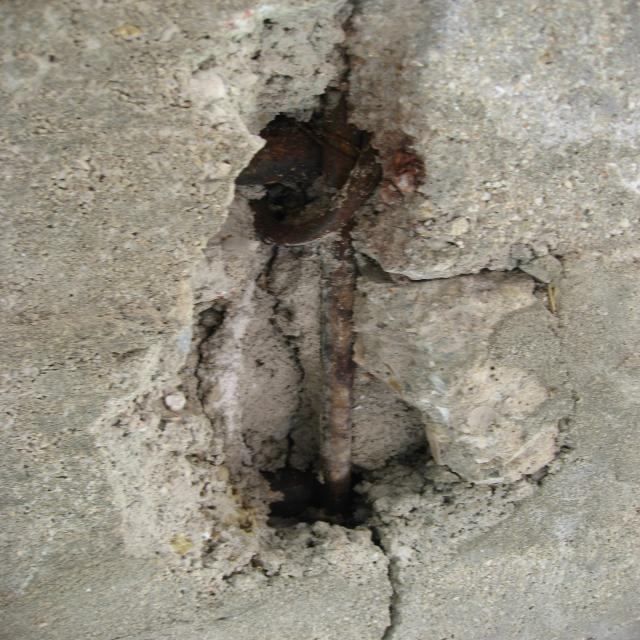corrosion: (123, 32, 450, 563)
